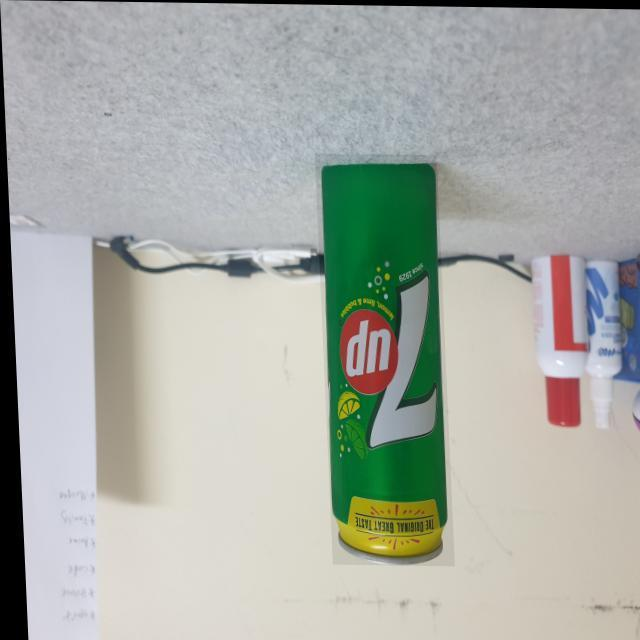trash: (322, 155, 458, 572)
